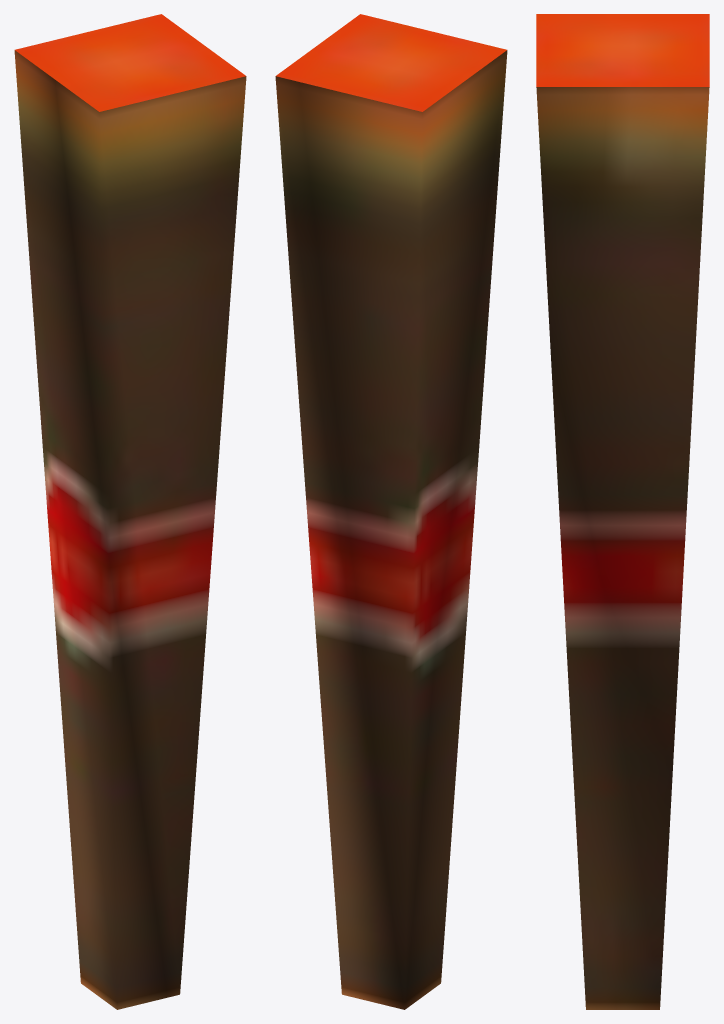
File: cigar.glb
The picture shows the model from 3 angles, left to right: view 1: azimuth 30°, elevation 25°; view 2: azimuth 150°, elevation 25°; view 3: azimuth 270°, elevation 25°; orthographic projection.
Visible parts, largest first — view 1: cigar; view 2: cigar; view 3: cigar.
Part boxes in pixels (bbox=[...]): cigar: bbox=[14, 14, 246, 1009]; cigar: bbox=[275, 14, 507, 1009]; cigar: bbox=[536, 14, 709, 1009].
Bounding box in the file's own units: 0.025 × 0.1504 × 0.025.
1 material, 1 textured.
